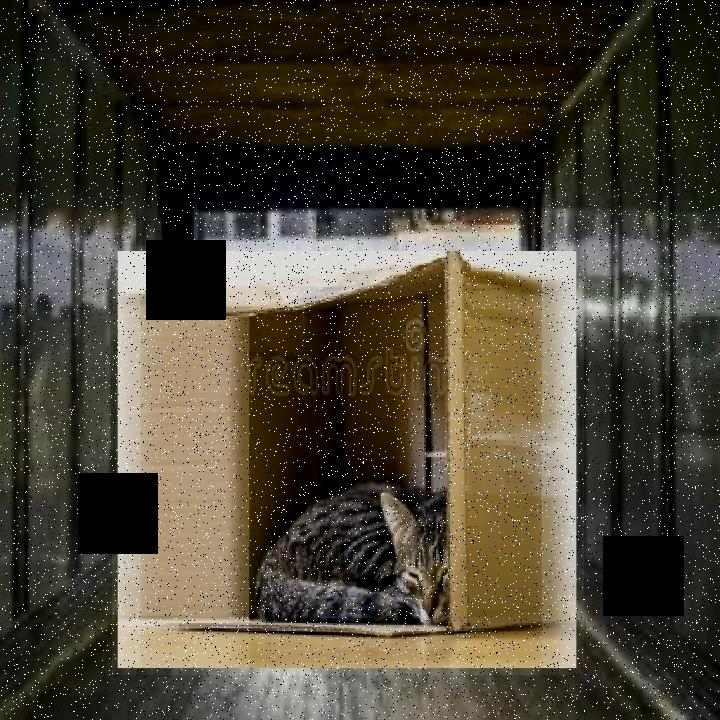box: (112, 246, 584, 675)
